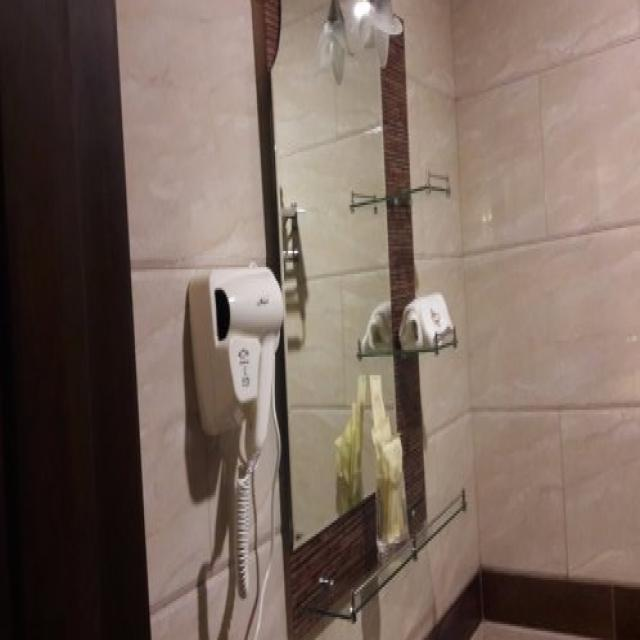dryer: (181, 251, 293, 604)
